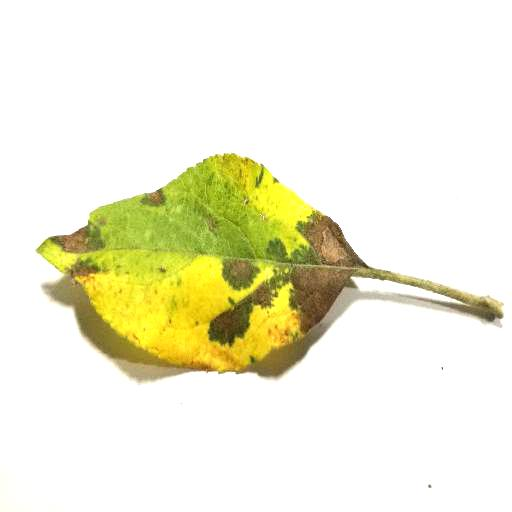Brown_Spot: (281, 205, 385, 353), (198, 255, 277, 350), (52, 218, 104, 280), (139, 180, 168, 210)
